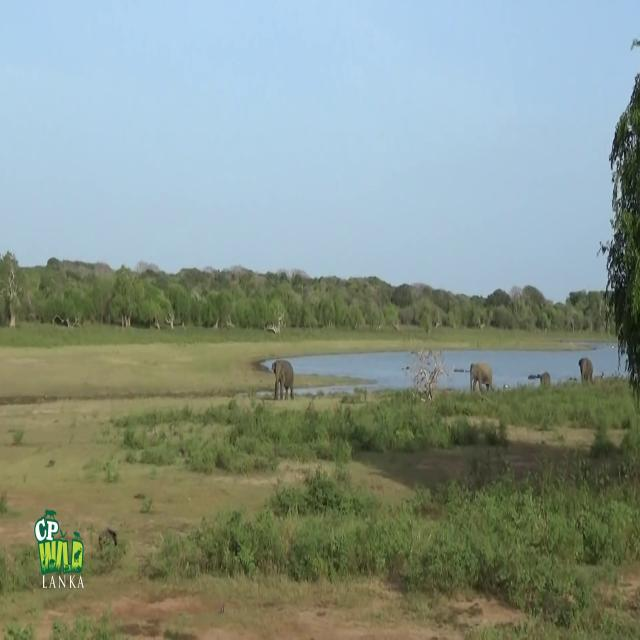Elephant: (271, 359, 294, 400), (469, 362, 493, 397), (578, 356, 594, 384), (528, 371, 551, 387)
